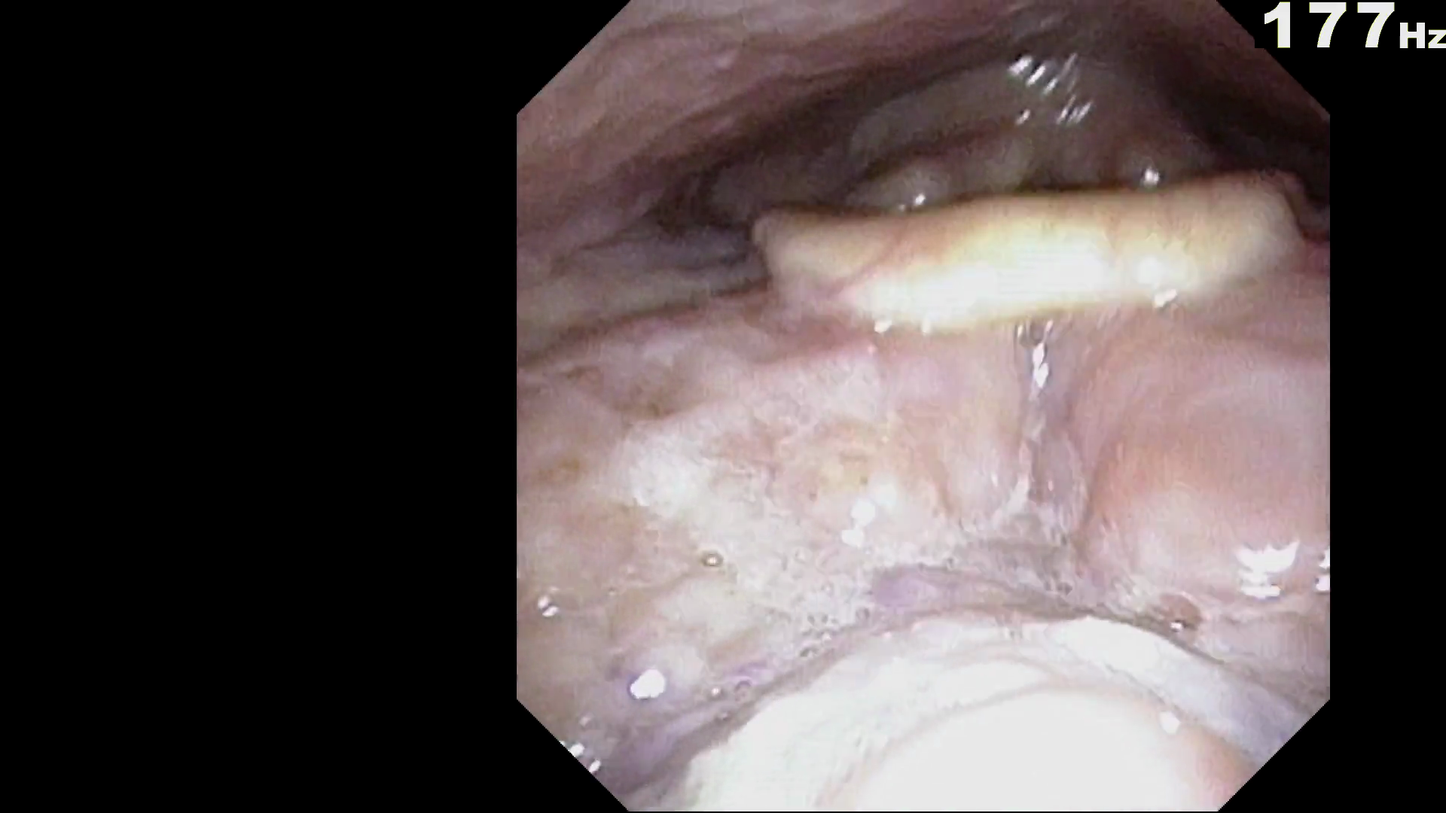epiglottis: (737, 181, 1310, 466)
trachea: (980, 142, 1127, 296)
